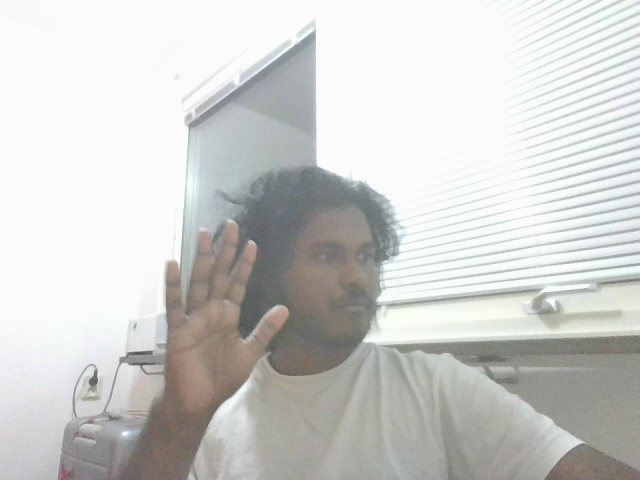hello: (148, 219, 296, 410)
